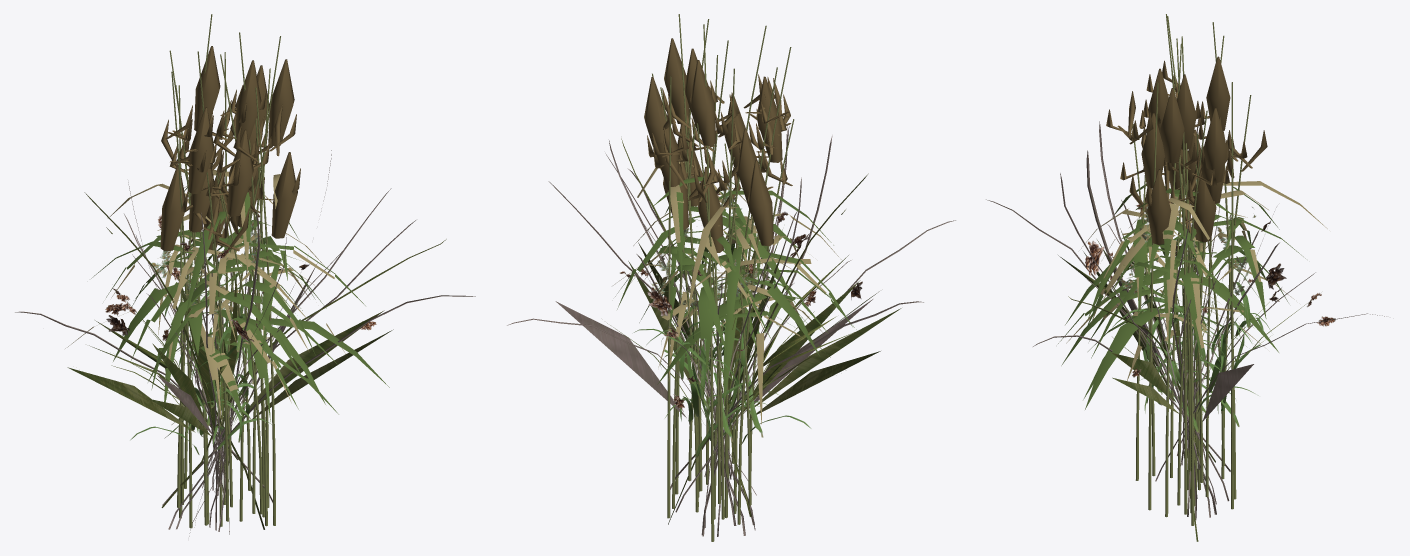
The model's file is vegetation_06.glb.
3 views of the same model, side by side, from view 1: azimuth 30°, elevation 25°; view 2: azimuth 150°, elevation 25°; view 3: azimuth 270°, elevation 25° (orthographic). The views are drawn at different scales.
Parts seen in each view (by area): view 1: prototype_048, prototype_052, prototype_055, prototype_049, prototype_054, prototype_051, prototype_050, prototype_053; view 2: prototype_048, prototype_052, prototype_055, prototype_054, prototype_049, prototype_051, prototype_050, prototype_053; view 3: prototype_048, prototype_055, prototype_049, prototype_052, prototype_054, prototype_050, prototype_051, prototype_053.
Boxes of the visible parts, x1,y1,x2,y2 form: prototype_048: (65, 14, 365, 528); prototype_052: (15, 150, 475, 536); prototype_055: (158, 50, 337, 525); prototype_049: (106, 32, 389, 526); prototype_054: (111, 36, 366, 488); prototype_051: (111, 214, 344, 495); prototype_050: (130, 167, 272, 454); prototype_053: (151, 220, 274, 451); prototype_048: (637, 14, 856, 541); prototype_052: (507, 126, 955, 536); prototype_055: (613, 67, 841, 518); prototype_054: (629, 19, 852, 508); prototype_049: (615, 19, 828, 507); prototype_051: (607, 211, 851, 479); prototype_050: (634, 189, 811, 458); prototype_053: (652, 183, 767, 435); prototype_048: (1061, 14, 1305, 512); prototype_055: (1081, 35, 1267, 509); prototype_049: (1068, 36, 1301, 525); prototype_052: (986, 110, 1386, 541); prototype_054: (1058, 45, 1327, 525); prototype_050: (1112, 179, 1263, 432); prototype_051: (1085, 200, 1321, 469); prototype_053: (1120, 205, 1270, 413).
Size of the model in its own units: 2.56 by 3.34 by 2.49.
Materials: 11 (7 with a texture image).
